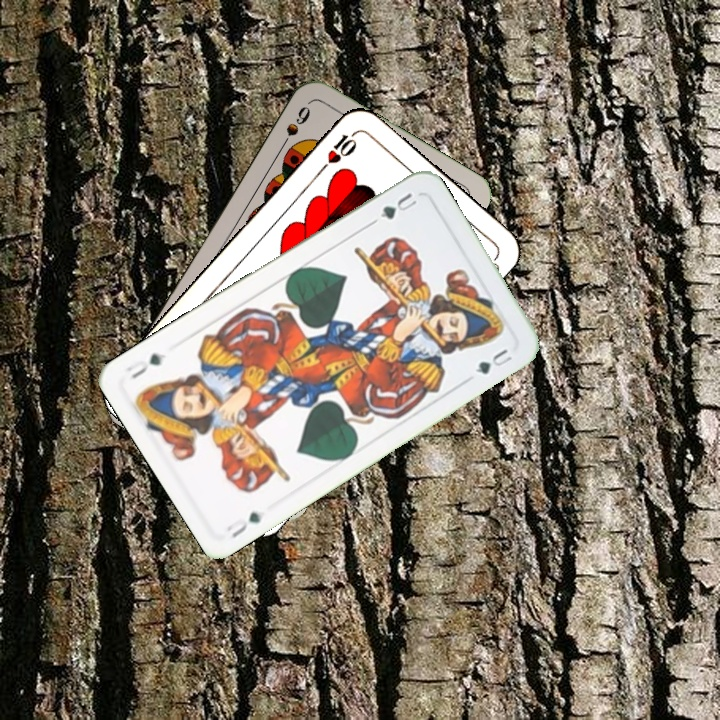GU: (376, 188, 420, 222), (222, 507, 266, 541)
H10: (315, 127, 360, 175)
S9: (275, 102, 313, 154)
